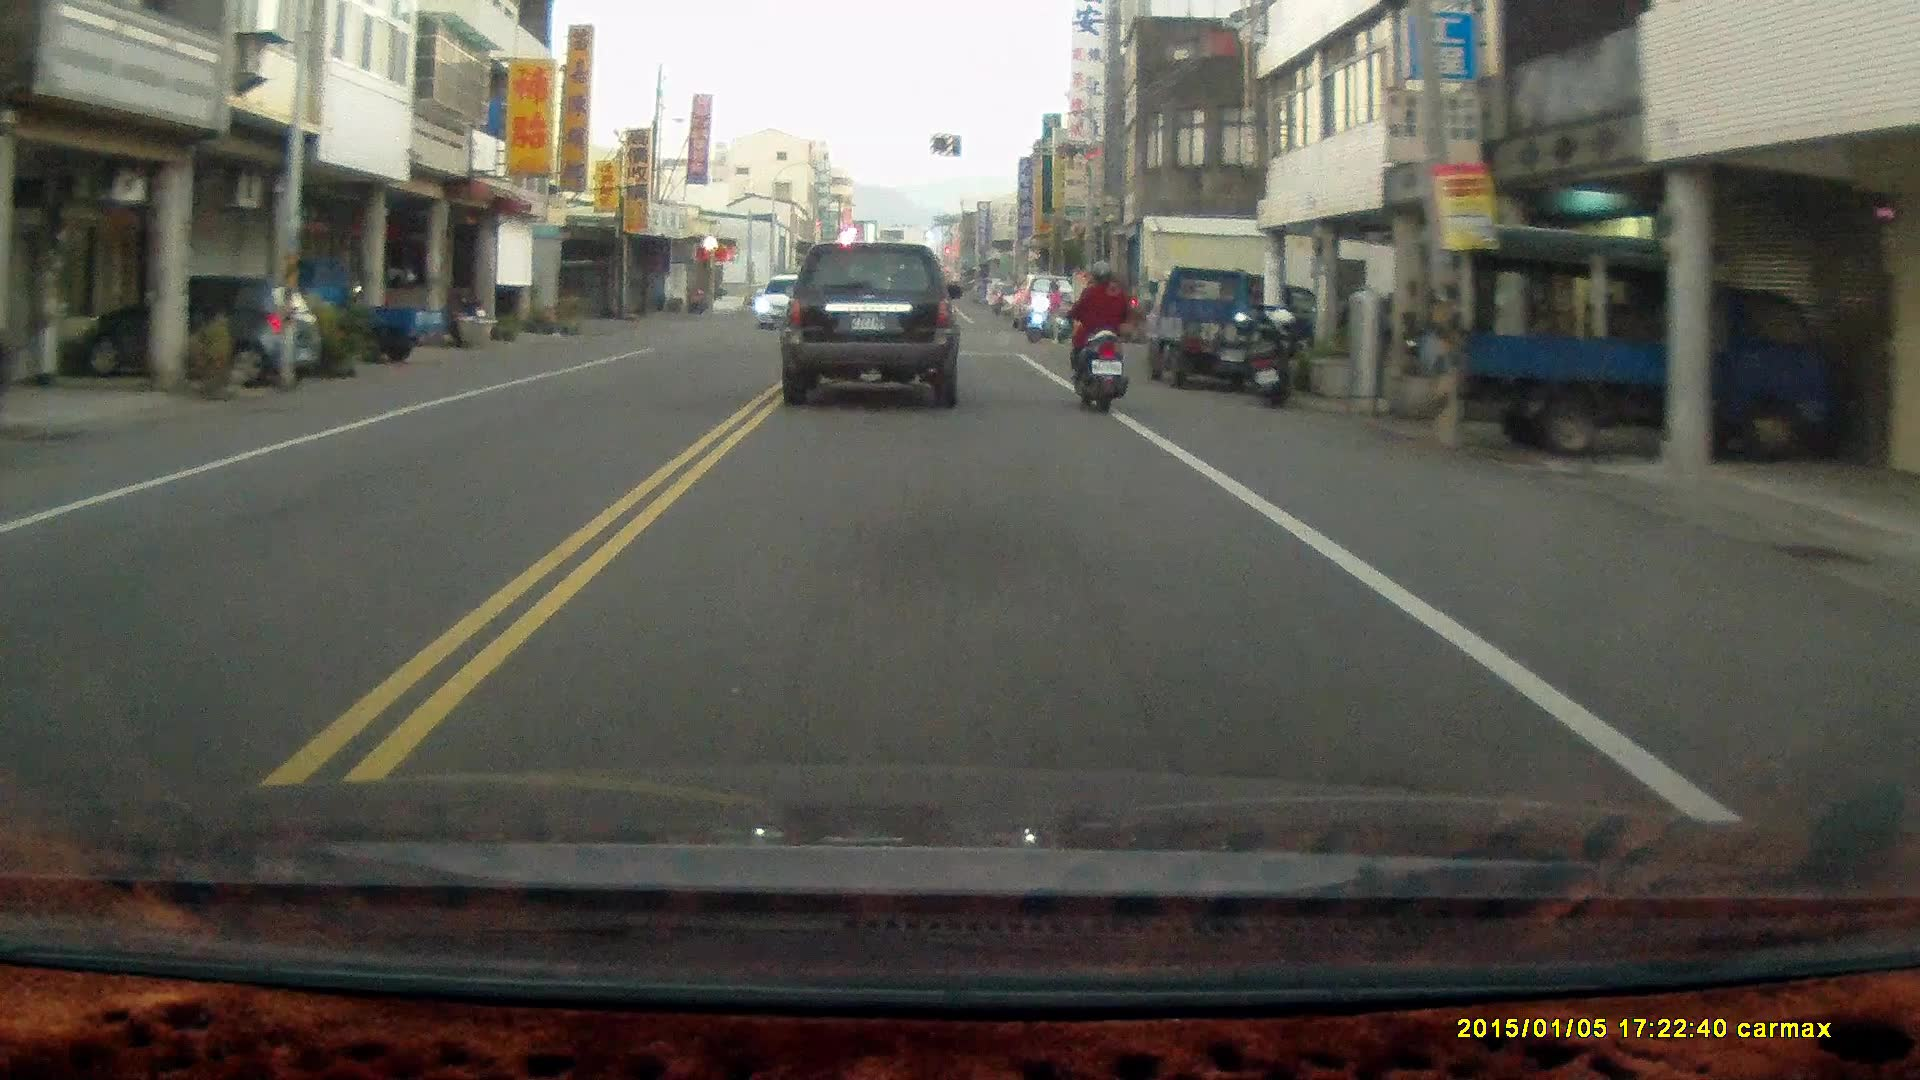rider: (1071, 259, 1129, 411), (1023, 278, 1067, 341)
vehicle: (1457, 228, 1846, 455), (782, 244, 963, 409), (73, 277, 319, 392), (1143, 267, 1301, 394), (756, 274, 820, 330)
